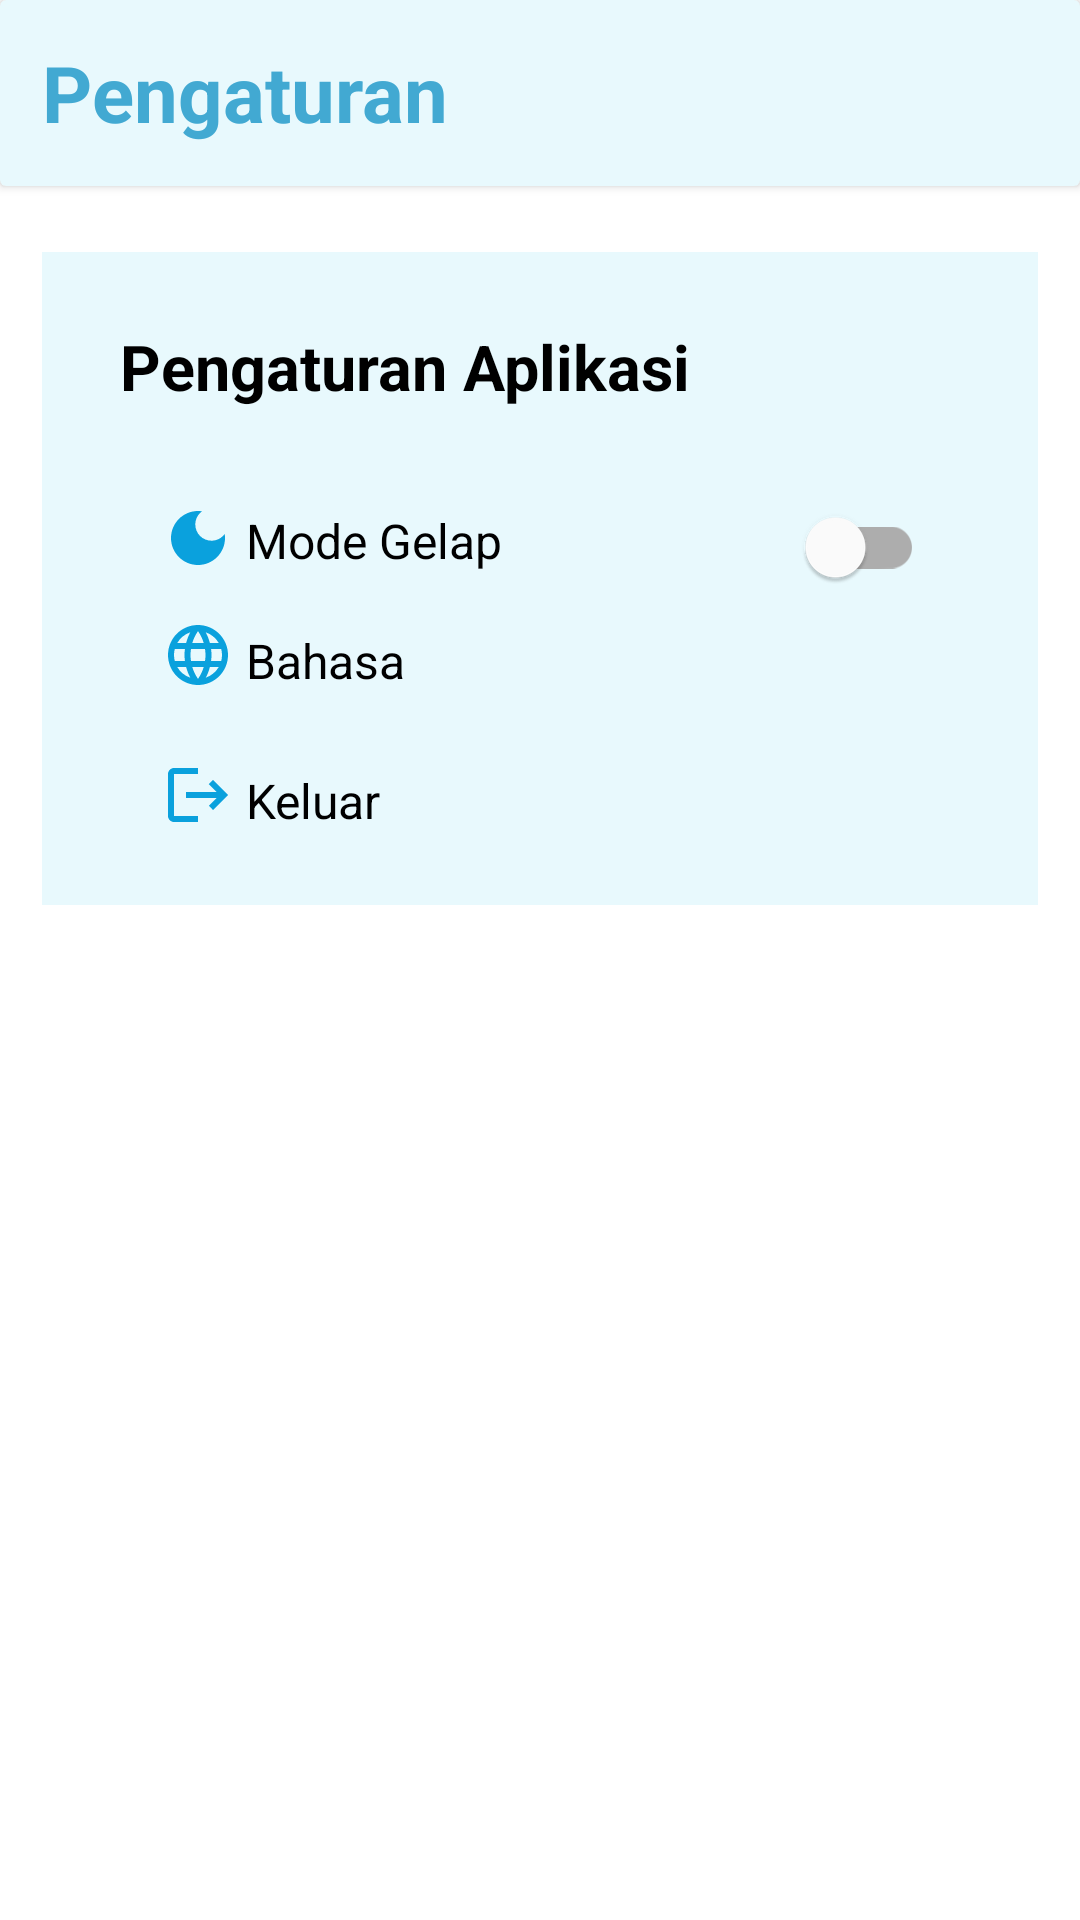

Icons on this 1080x1920 Android screen, each with the point to tap as [x,y]:
language: [198,655]
